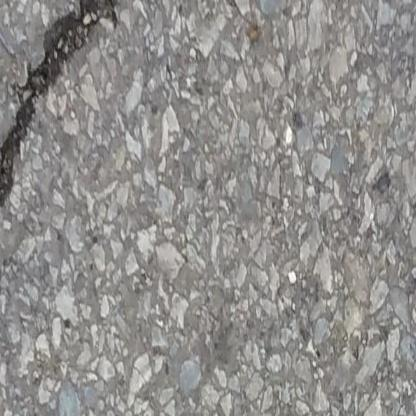Cracks: (0, 0, 122, 252)
